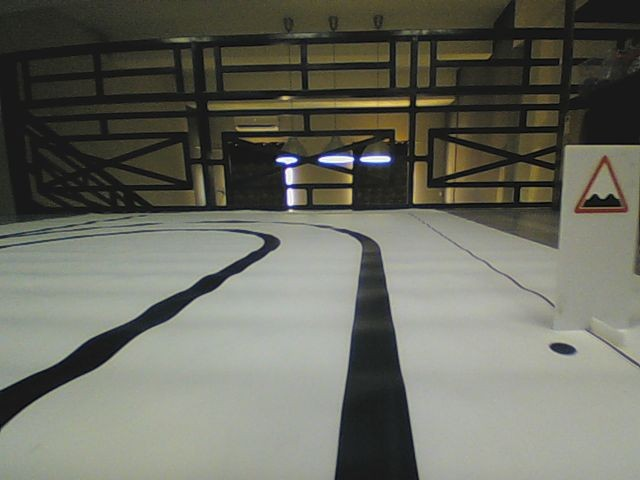Nerov: (572, 154, 630, 216)
